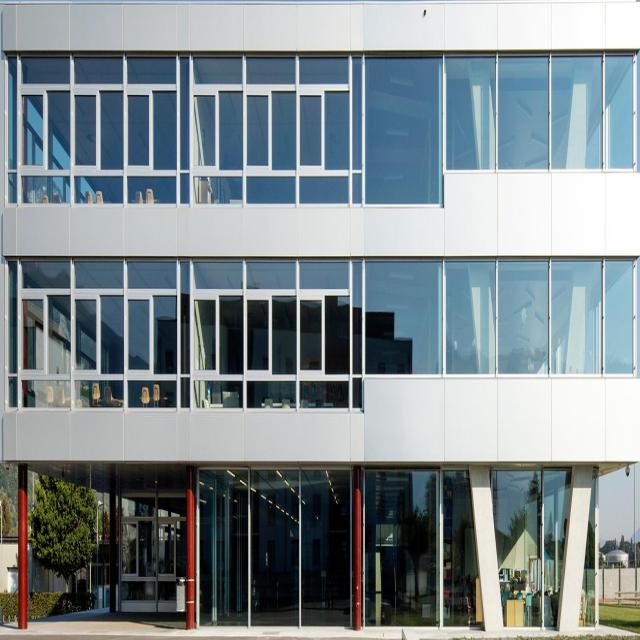plant: (29, 472, 101, 620)
windows: (7, 52, 637, 206), (4, 257, 637, 409), (199, 467, 353, 620), (363, 467, 487, 628), (490, 465, 575, 627), (122, 485, 188, 613)
